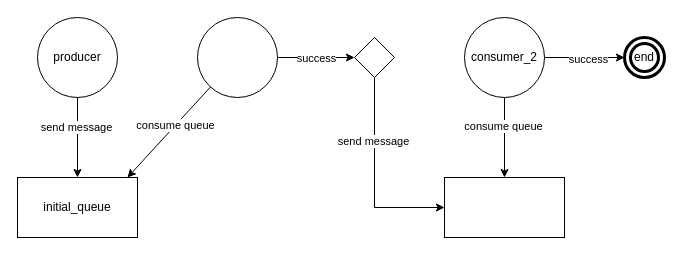
Some shapes in this 683 by 255 pixel diagram are drawn without their labels. The box of each missing label's shape, as (x1, y1, x2, y2) in pixels:
consumer_1: (196, 16, 278, 98)
second_queue: (444, 176, 564, 238)
